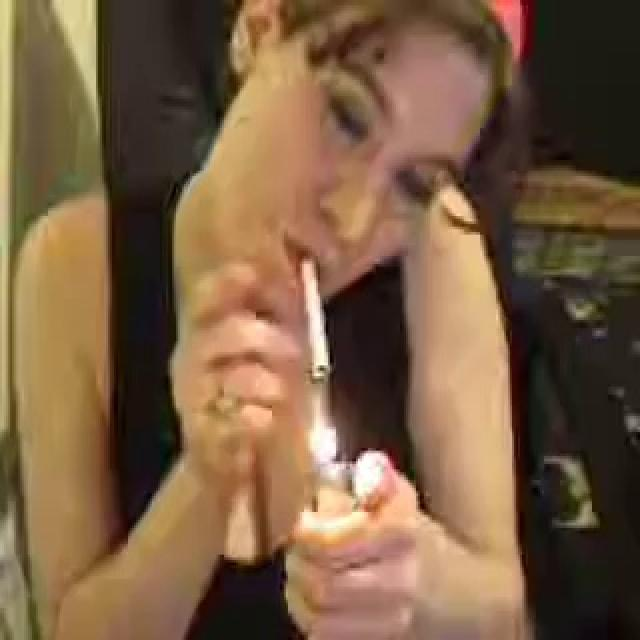Cigarette: (300, 261, 330, 380)
Hand: (166, 260, 300, 498), (280, 442, 428, 639)
Mouth: (274, 224, 329, 296)
